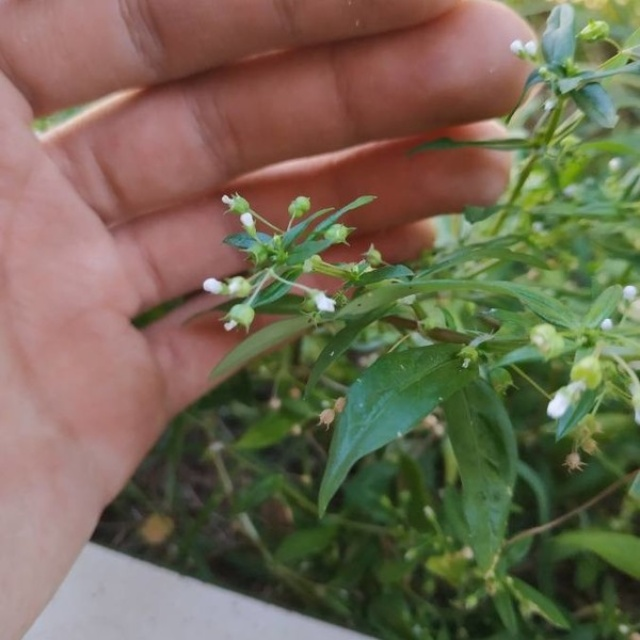obstacle: (204, 174, 624, 565)
